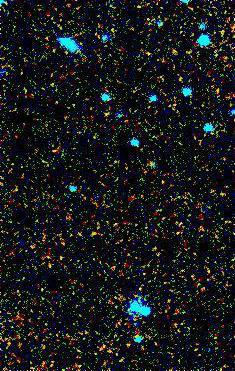star: (93, 105, 123, 135)
